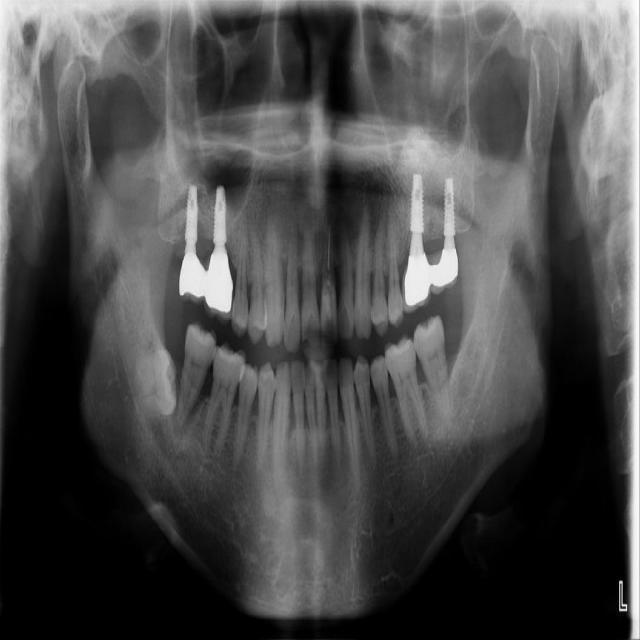Crown: (179, 252, 234, 326), (401, 248, 459, 312)
Filling: (322, 289, 337, 333)
Implant: (183, 184, 200, 254), (410, 174, 424, 254), (442, 178, 455, 248), (213, 187, 225, 253)
Periapical lesion: (171, 408, 196, 436), (204, 446, 212, 460)
Root Canal Treatment: (328, 227, 330, 272)
impacted tooth: (123, 350, 178, 415)
